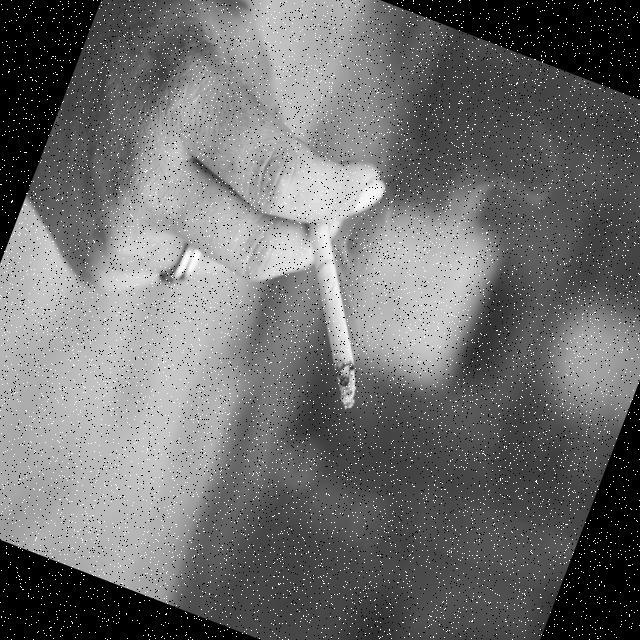cigarette: (254, 222, 428, 430)
